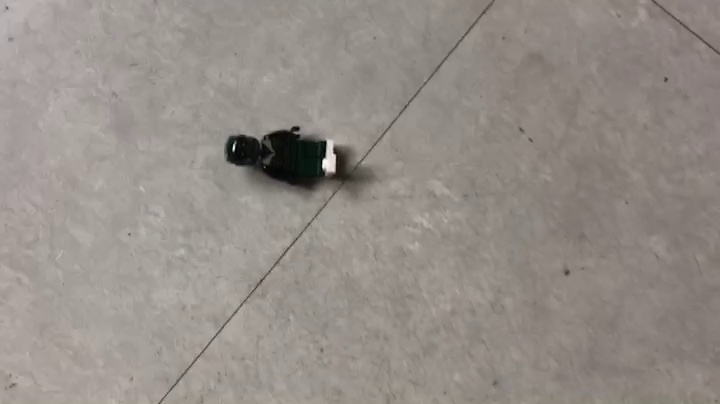people: (225, 126, 344, 192)
